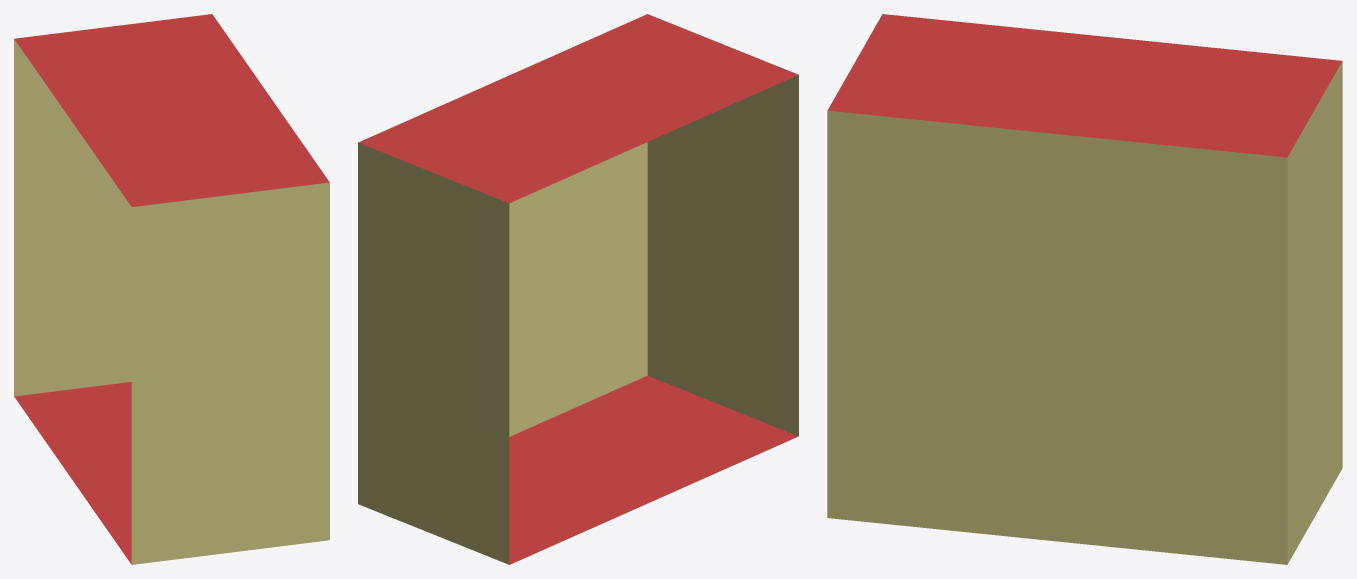
3 views of the same model, side by side, from view 1: azimuth 30°, elevation 25°; view 2: azimuth 150°, elevation 25°; view 3: azimuth 270°, elevation 25° (orthographic). The views are drawn at different scales.
Bounding box in the file's own units: 4.03 × 6.11 × 5.33.
